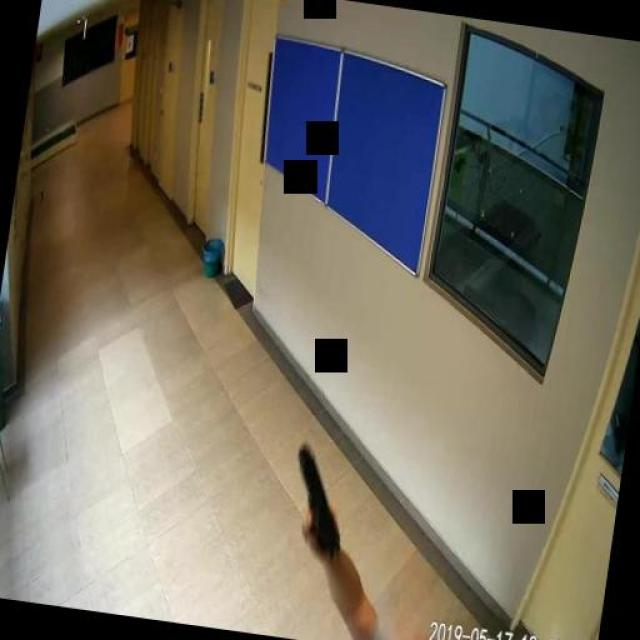gun: (284, 441, 352, 560)
